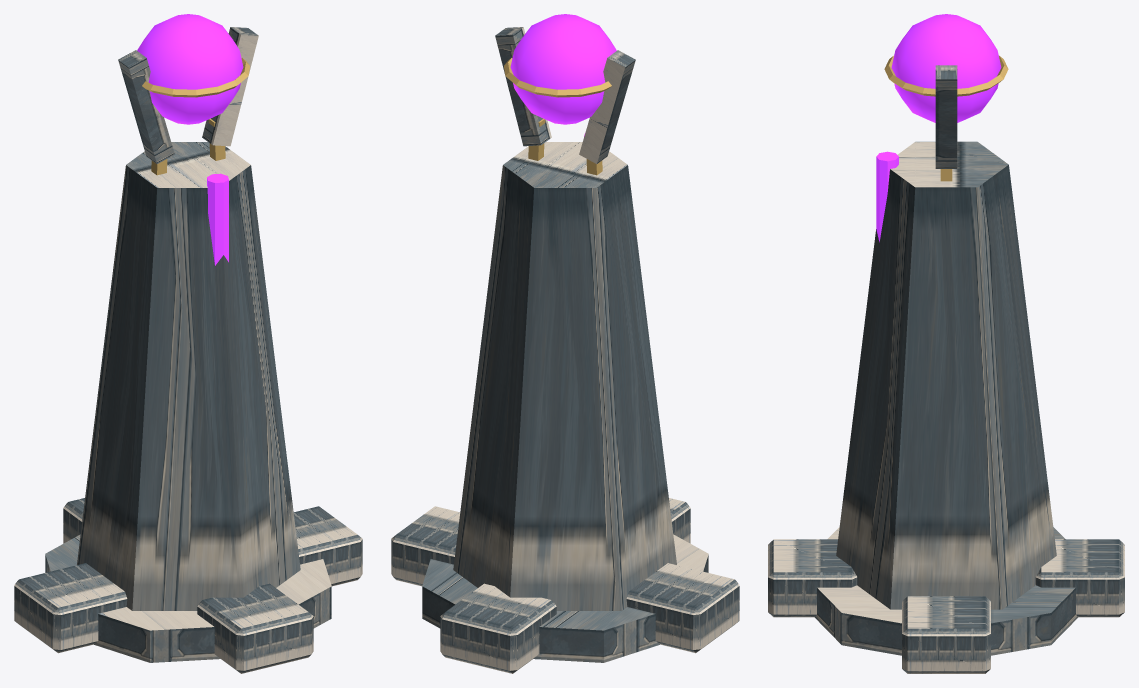
The model's file is lockdownEmitter.glb.
The picture shows the model from 3 angles, left to right: view 1: azimuth 30°, elevation 25°; view 2: azimuth 150°, elevation 25°; view 3: azimuth 270°, elevation 25°; orthographic projection.
Visible parts, largest first — view 1: Emitter.Pylon, Emitter.Base, Emitter.OrbPivot, Emitter.Foot.01, Emitter.Foot.02, Emitter.Foot.00, Emitter.Prong.L, Emitter.Prong.R, Emitter.Channel, Emitter.OrbBand, Emitter.Foot.03; view 2: Emitter.Pylon, Emitter.Base, Emitter.OrbPivot, Emitter.Foot.03, Emitter.Foot.02, Emitter.Foot.00, Emitter.Prong.L, Emitter.Prong.R, Emitter.OrbBand, Emitter.Foot.01; view 3: Emitter.Pylon, Emitter.Base, Emitter.OrbPivot, Emitter.Foot.00, Emitter.Foot.01, Emitter.Foot.03, Emitter.Prong.R, Emitter.Channel, Emitter.OrbBand.
Part boxes in pixels (x1,y1,x2,y2): Emitter.Pylon: (77, 142, 300, 610); Emitter.Base: (45, 534, 331, 662); Emitter.OrbPivot: (137, 14, 243, 124); Emitter.Foot.01: (197, 583, 313, 673); Emitter.Foot.02: (14, 563, 127, 653); Emitter.Foot.00: (293, 506, 362, 586); Emitter.Prong.L: (118, 50, 174, 163); Emitter.Prong.R: (202, 27, 258, 146); Emitter.Channel: (207, 173, 228, 265); Emitter.OrbBand: (142, 58, 249, 97); Emitter.Foot.03: (63, 498, 84, 543); Emitter.Pylon: (453, 142, 676, 610); Emitter.Base: (422, 534, 708, 662); Emitter.OrbPivot: (510, 14, 616, 124); Emitter.Foot.03: (440, 583, 556, 673); Emitter.Foot.02: (626, 563, 739, 653); Emitter.Foot.00: (391, 506, 460, 586); Emitter.Prong.L: (579, 50, 635, 163); Emitter.Prong.R: (495, 27, 551, 146); Emitter.OrbBand: (504, 58, 611, 97); Emitter.Foot.01: (669, 498, 690, 543); Emitter.Pylon: (836, 141, 1056, 609); Emitter.Base: (814, 527, 1077, 655); Emitter.OrbPivot: (891, 14, 1001, 122); Emitter.Foot.00: (902, 596, 990, 673); Emitter.Foot.01: (768, 539, 857, 617); Emitter.Foot.03: (1035, 539, 1124, 617); Emitter.Prong.R: (935, 65, 957, 168); Emitter.Channel: (876, 151, 898, 242); Emitter.OrbBand: (884, 55, 1008, 96).
Size of what is drawn, in the model's own units: 10 by 18 by 10.
Materials: 4 (2 with a texture image).
